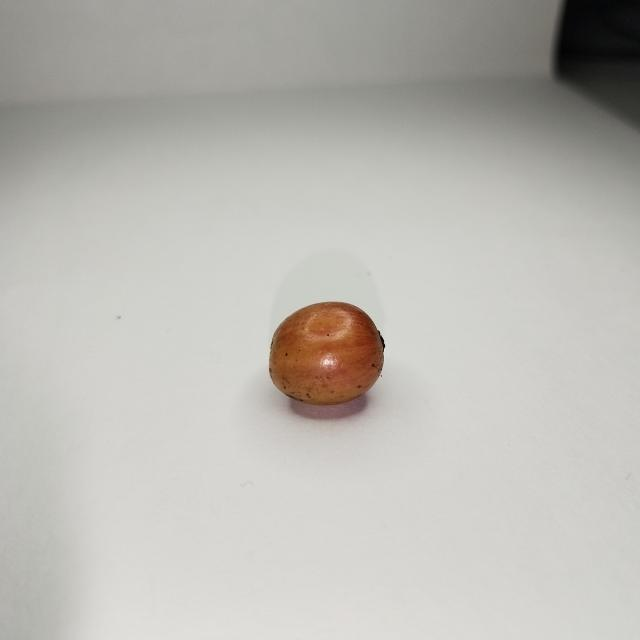Sano: (269, 302, 384, 405)
